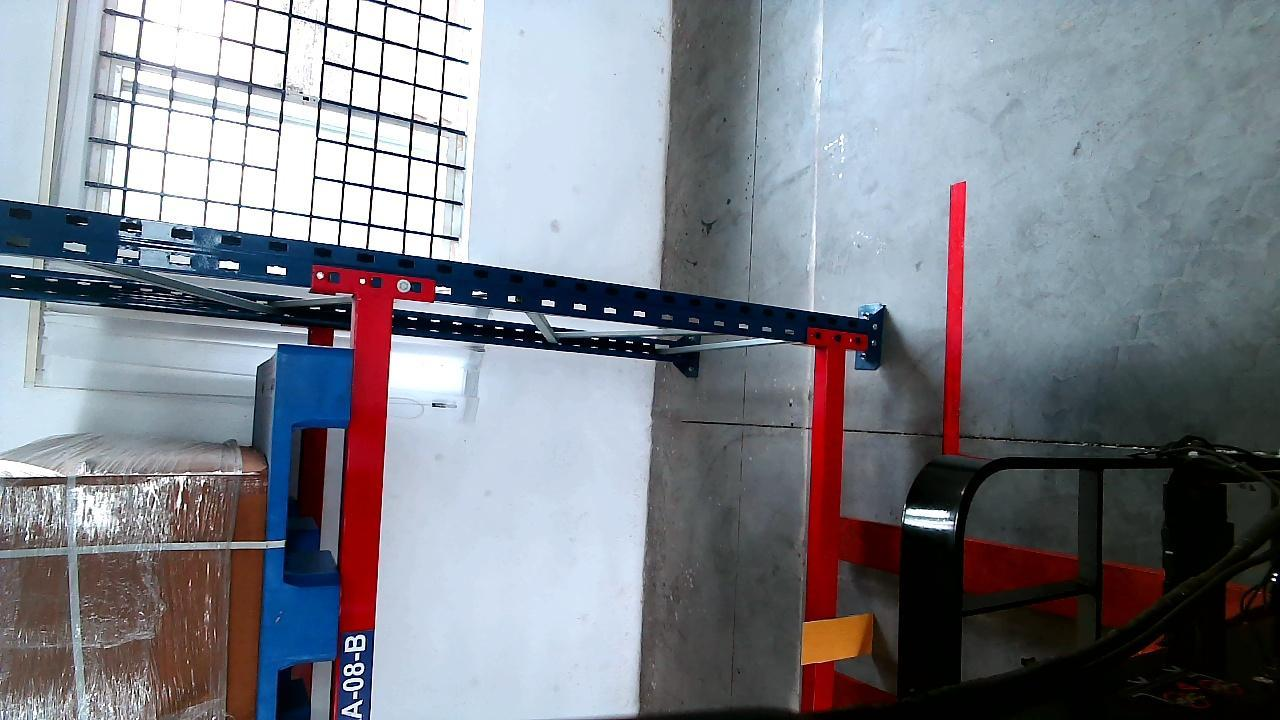red_line: (940, 180, 968, 447)
